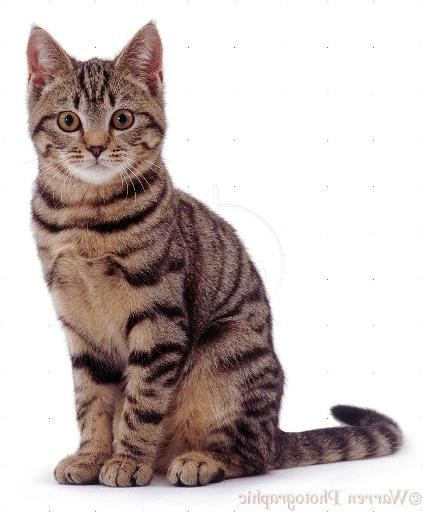cat_sitting: (27, 23, 401, 486)
